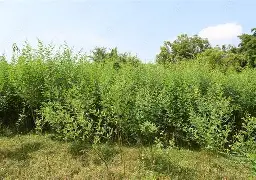crops: (0, 53, 252, 146), (0, 138, 250, 178), (157, 24, 255, 72), (33, 45, 84, 100), (81, 59, 139, 100), (192, 104, 230, 154), (0, 58, 38, 100), (35, 101, 73, 139), (86, 105, 118, 143), (135, 119, 159, 161), (219, 149, 254, 177), (233, 112, 256, 154), (0, 152, 38, 177), (219, 80, 248, 105), (66, 135, 96, 157), (192, 73, 217, 99), (91, 143, 120, 164), (40, 153, 59, 177), (14, 106, 30, 133), (166, 135, 176, 149)
